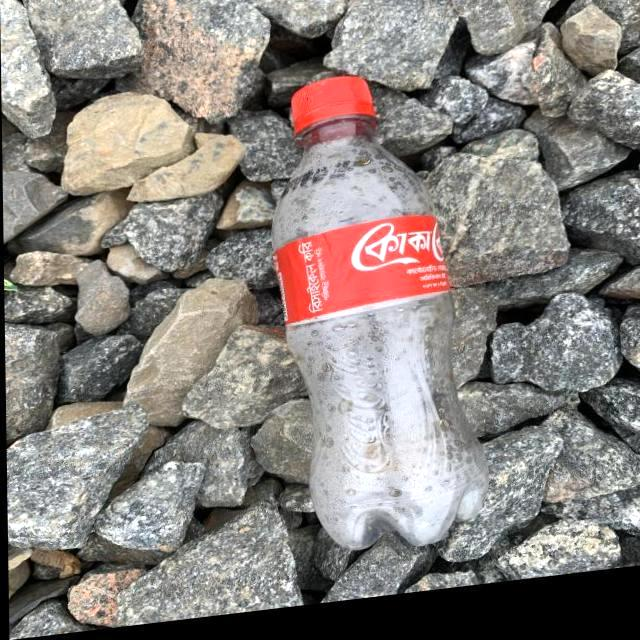bottle: (277, 70, 460, 576)
